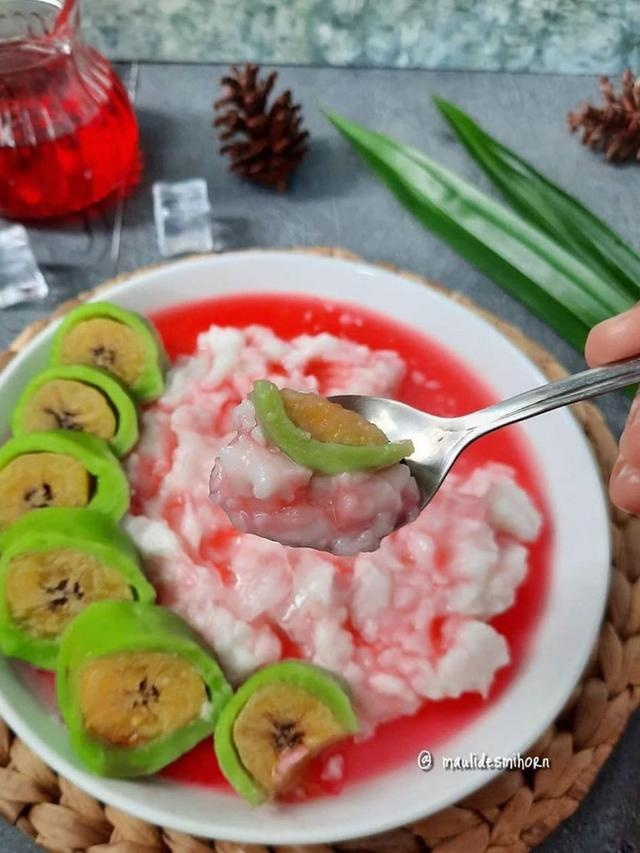es_pisang_ijo: (1, 288, 555, 809)
